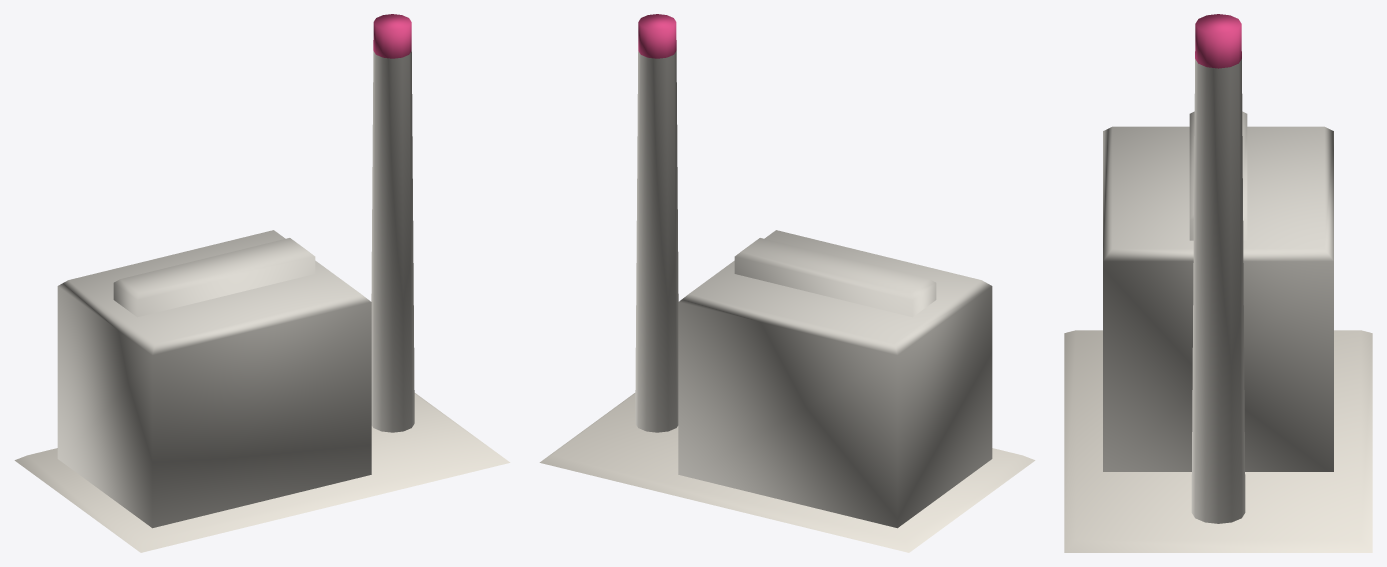
The model's file is termeletrica.glb.
The picture shows the model from 3 angles, left to right: view 1: azimuth 30°, elevation 25°; view 2: azimuth 150°, elevation 25°; view 3: azimuth 270°, elevation 25°; orthographic projection. The views are drawn at different scales.
Parts seen in each view (by area): view 1: termeletrica; view 2: termeletrica; view 3: termeletrica.
Boxes of the visible parts, bbox=[...] form: termeletrica: bbox=[14, 14, 510, 552]; termeletrica: bbox=[539, 14, 1035, 552]; termeletrica: bbox=[1064, 14, 1372, 552].
Size of the model in its own units: 54 by 56.9 by 32.
